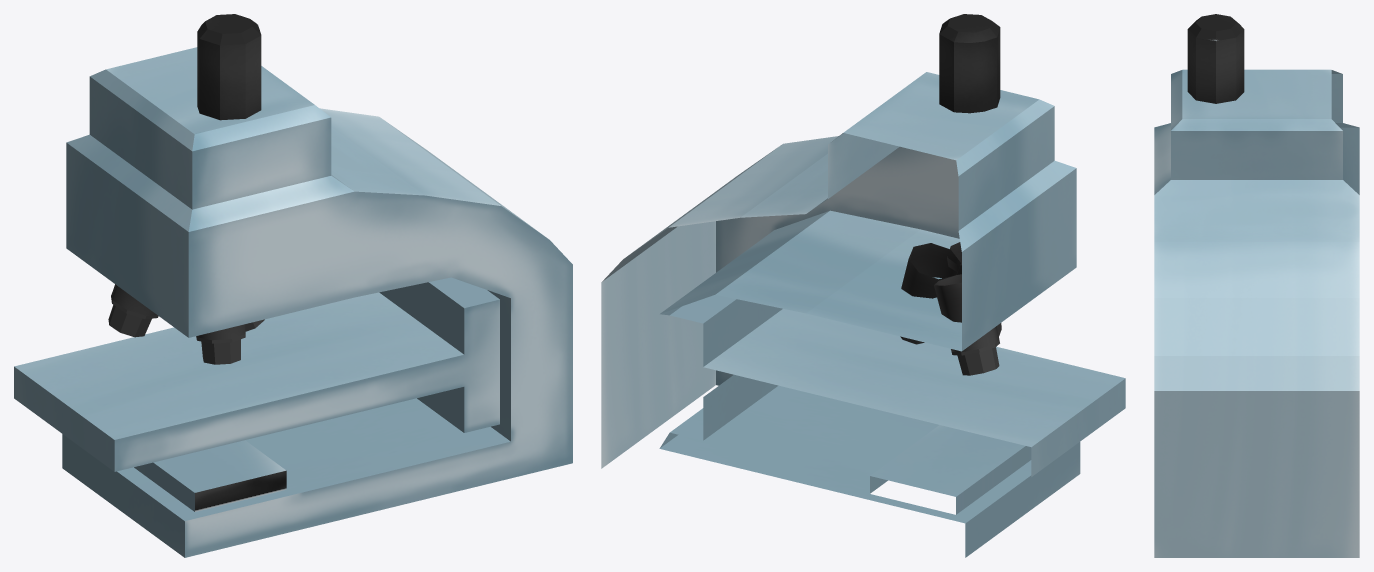
Rendered from SM_Optical microscope.FBX.
3 renders of one model, left to right at view 1: azimuth 30°, elevation 25°; view 2: azimuth 150°, elevation 25°; view 3: azimuth 270°, elevation 25°, orthographic. The views are drawn at different scales.
Parts seen in each view (by area): view 1: Optical microscope; view 2: Optical microscope; view 3: Optical microscope.
Part boxes in pixels (x1,y1,x2,y2): Optical microscope: [14, 14, 572, 557]; Optical microscope: [601, 14, 1125, 557]; Optical microscope: [1154, 14, 1359, 557].
Size of the model in its own units: 244 by 254 by 116.
Materials: 1 (1 with a texture image).
